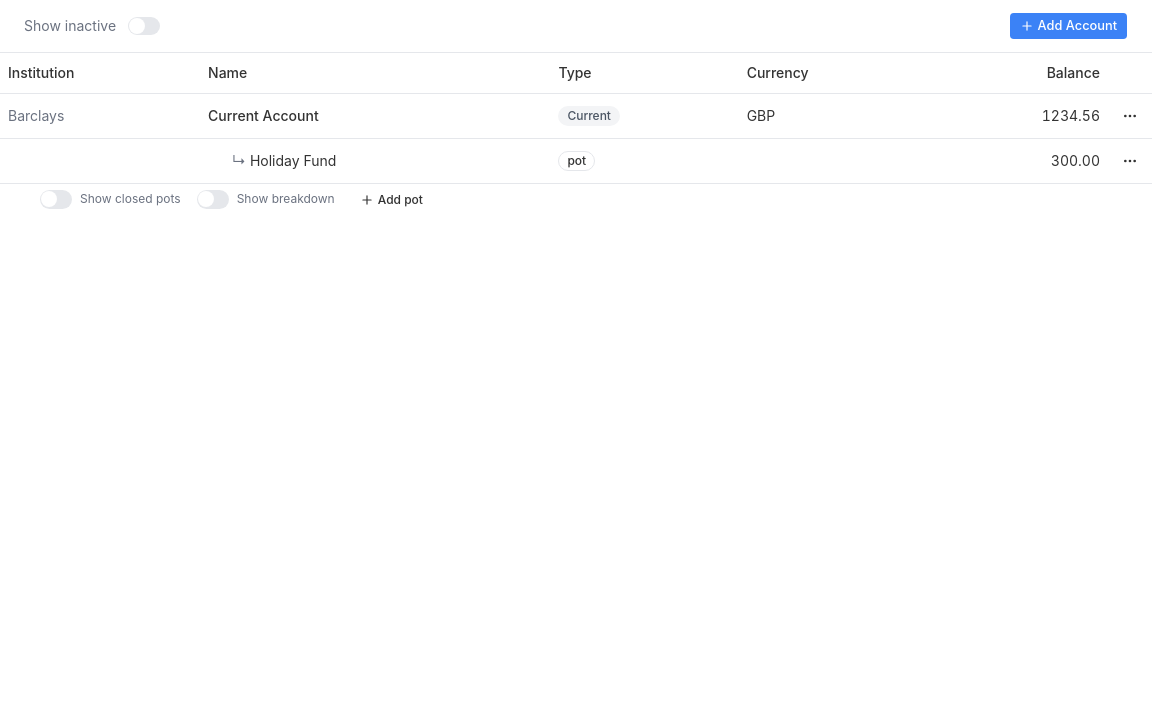
AccountsScreen — pot child rows › opens pot delete confirmation with permanent warning
The width and height of the screenshot is (1152, 720).
Expected: the text "Holiday Fund" is shown, [250,152,336,168]
Press the mouse on the button named "pot actions" at (1130, 160), box [1116,146,1144,174]
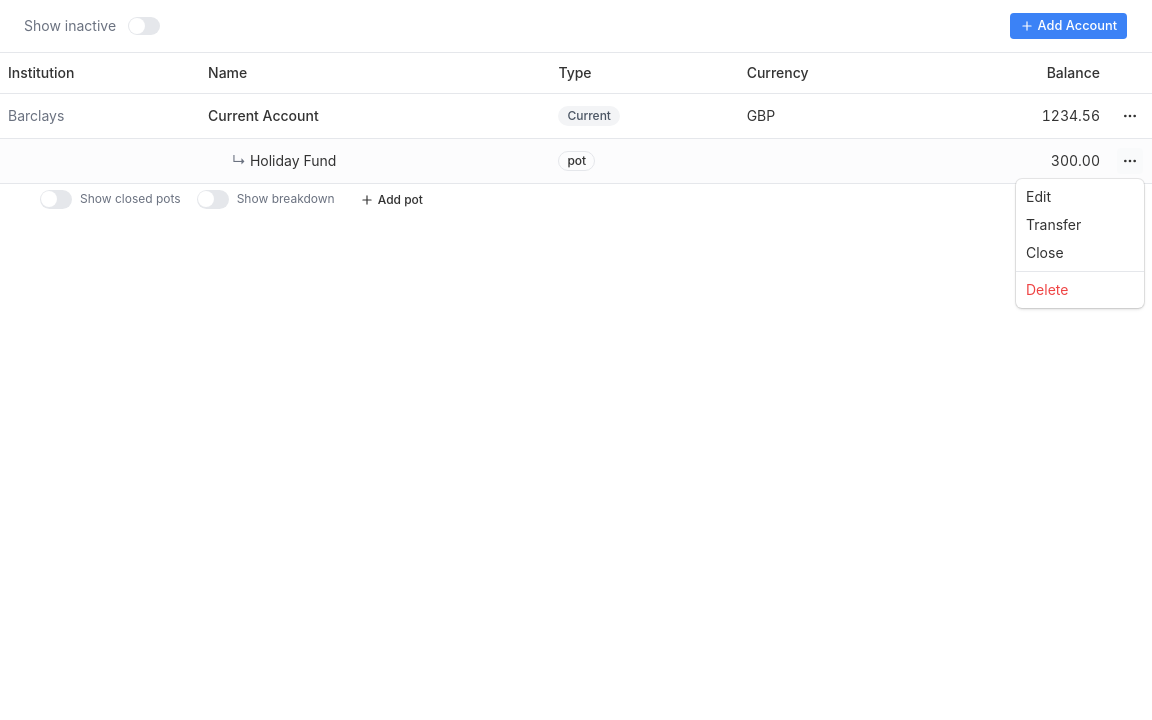
// Click the last Delete in the dropdown (pot delete, not account delete)
Click the menu item "Delete" at (1047, 290), box [1026,281,1068,298]
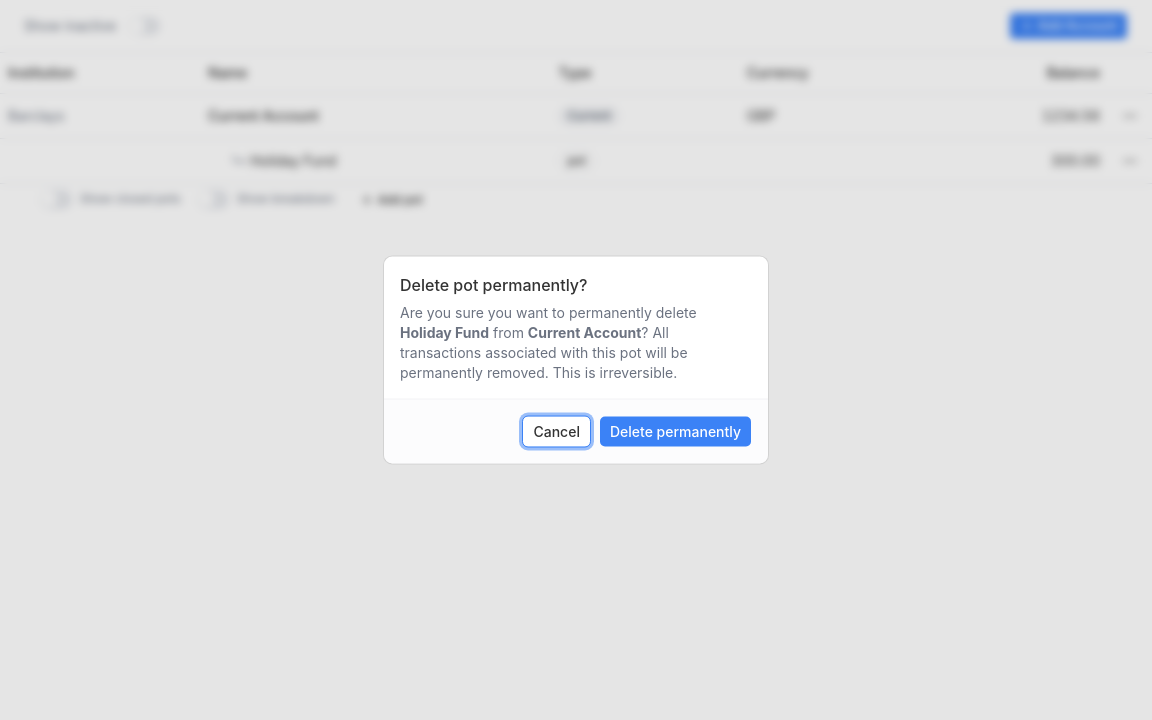
Expected: the heading "Delete pot permanently?" is shown, [400,272,588,296]
Expected: the text "permanently removed" is shown, [400,324,688,380]
